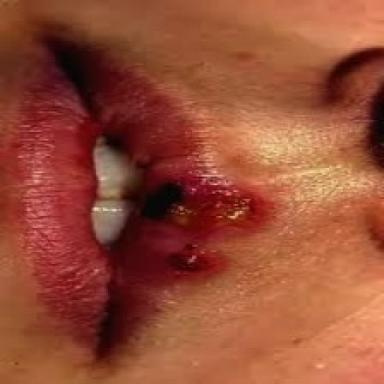Impetigo: (134, 172, 268, 277)
